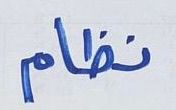alef: (54, 15, 76, 75)
meem: (13, 51, 53, 104)
noon: (118, 33, 152, 74)
zah: (77, 26, 116, 82)
